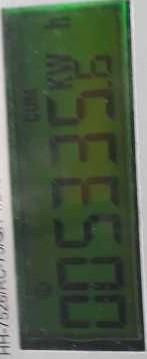.: (38, 9, 82, 91)
0: (104, 79, 118, 87)
1: (57, 293, 129, 333), (53, 257, 130, 292)
4: (47, 174, 123, 210), (50, 132, 116, 168)
6: (50, 213, 128, 248), (45, 88, 113, 127)
7: (72, 56, 113, 79)
